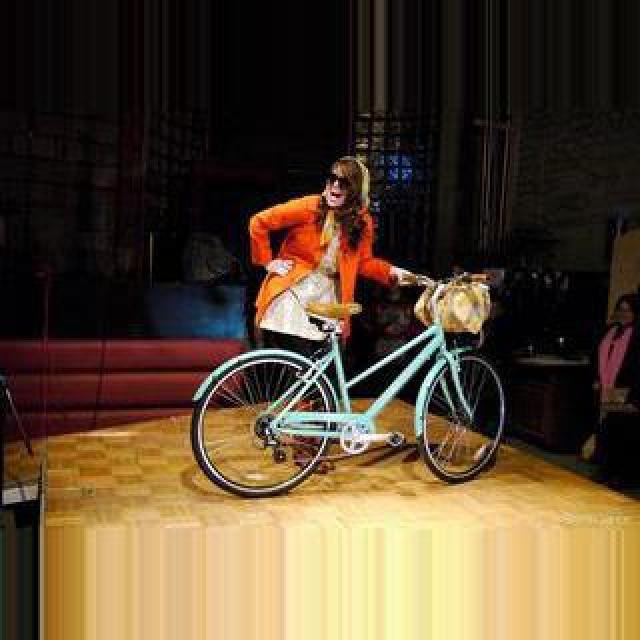MC-Bike: (248, 156, 436, 366), (594, 288, 640, 480)
Person: (186, 285, 516, 499)
